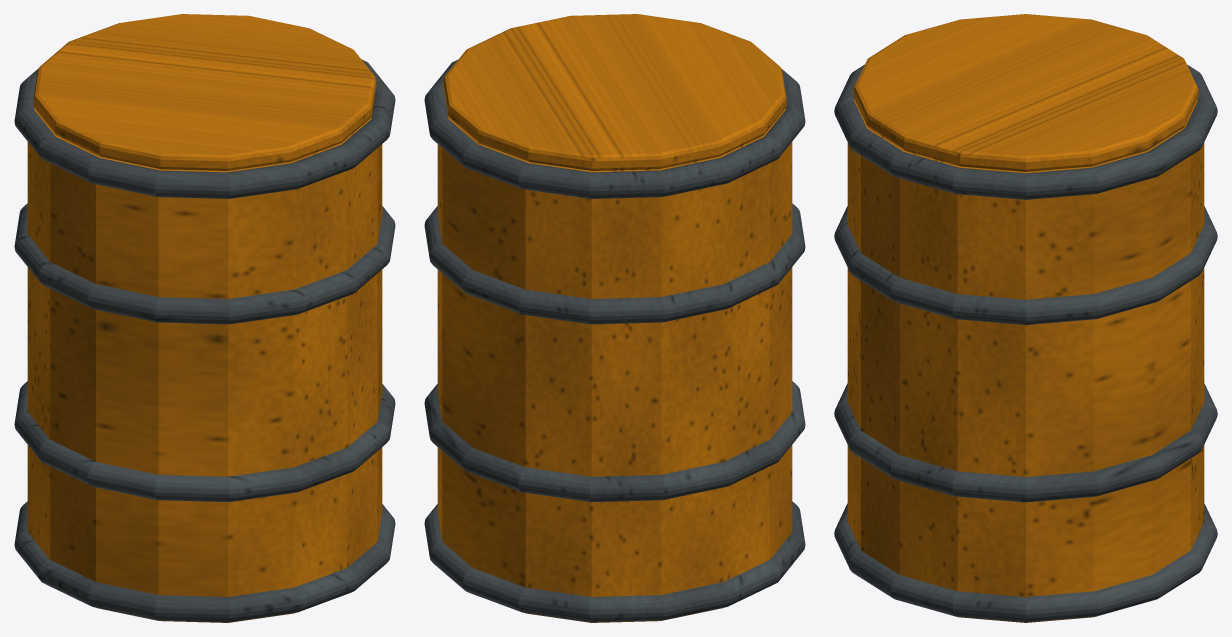
Rendered from PROP-1D0869785A01_lod0.glb.
3 views of the same model, side by side, from view 1: azimuth 30°, elevation 25°; view 2: azimuth 150°, elevation 25°; view 3: azimuth 270°, elevation 25° (orthographic).
Parts seen in each view (by area): view 1: barrel_body, barrel_ribs, barrel_lid; view 2: barrel_body, barrel_ribs, barrel_lid; view 3: barrel_body, barrel_ribs, barrel_lid.
Boxes of the visible parts, bbox=[...] form: barrel_body: bbox=[27, 108, 382, 622]; barrel_ribs: bbox=[14, 59, 395, 622]; barrel_lid: bbox=[33, 14, 376, 170]; barrel_body: bbox=[437, 108, 792, 622]; barrel_ribs: bbox=[424, 59, 805, 622]; barrel_lid: bbox=[443, 14, 786, 170]; barrel_body: bbox=[847, 100, 1204, 622]; barrel_ribs: bbox=[834, 64, 1217, 622]; barrel_lid: bbox=[853, 14, 1198, 171].
Size of the model in its own units: 0.6664 by 0.89 by 0.6664.
Materials: 2 (2 with a texture image).
